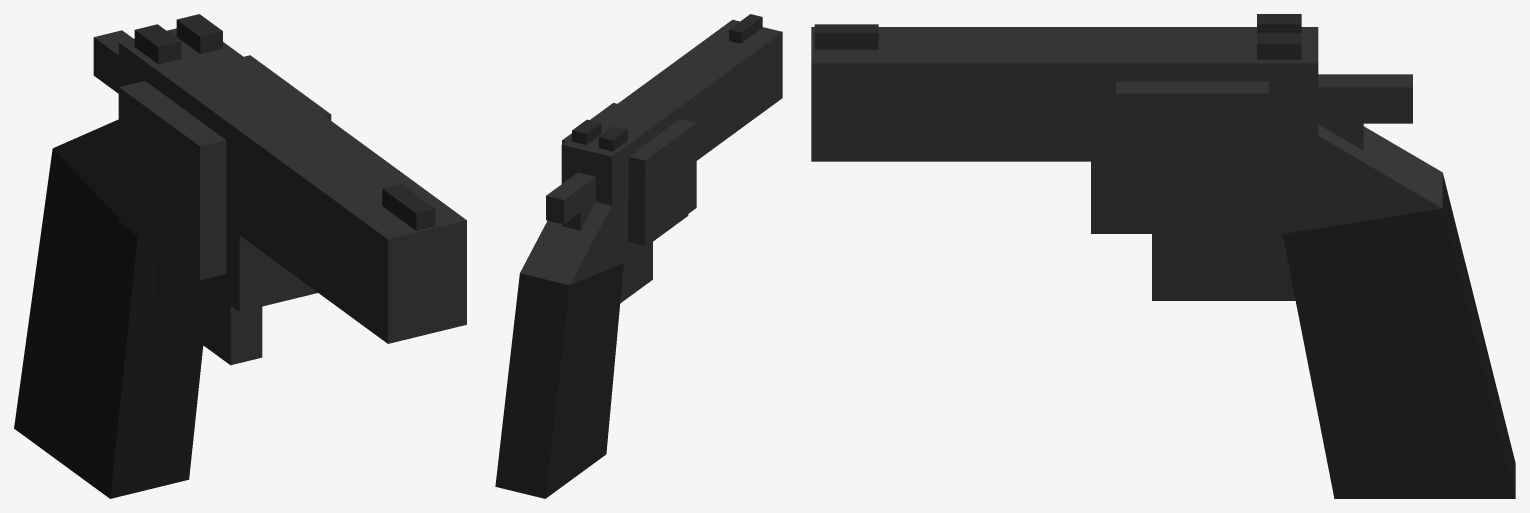
File: Revolver.FBX
The picture shows the model from 3 angles, left to right: view 1: azimuth 30°, elevation 25°; view 2: azimuth 150°, elevation 25°; view 3: azimuth 270°, elevation 25°; orthographic projection. The views are drawn at different scales.
Visible parts, largest first — view 1: Revolver, RevolverBarrel; view 2: Revolver, RevolverBarrel; view 3: Revolver, RevolverBarrel.
Part boxes in pixels (<box>): Revolver: <box>14,14,466,498</box>; RevolverBarrel: <box>118,55,331,280</box>; Revolver: <box>495,14,782,498</box>; RevolverBarrel: <box>562,103,696,245</box>; Revolver: <box>811,14,1515,498</box>; RevolverBarrel: <box>1116,81,1269,219</box>.
Bounding box in the file's own units: 11.26 × 55.61 × 39.39.
